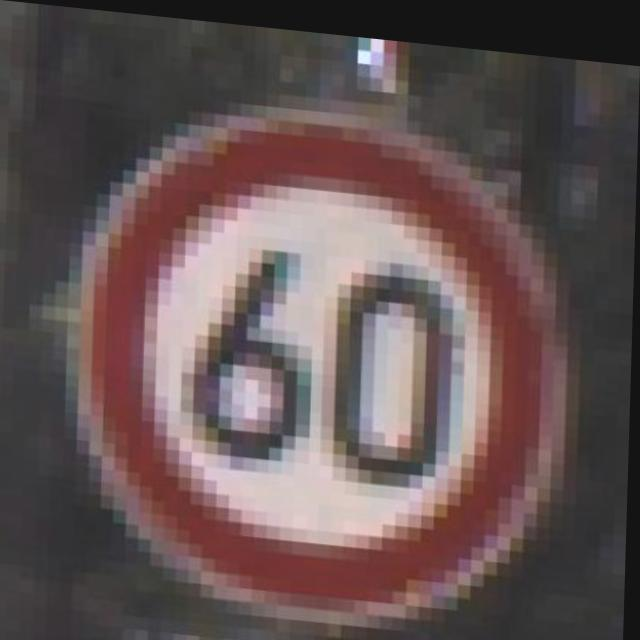limit60: (55, 79, 605, 640)
